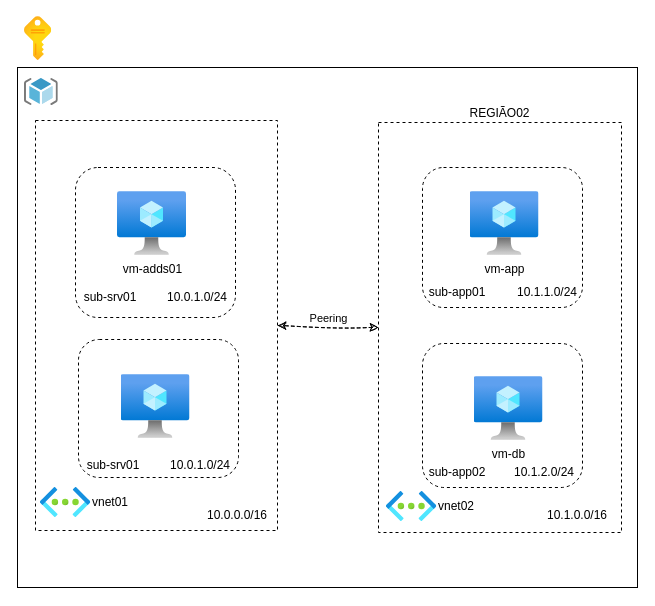
This 655x606 diagram has some shape labels left out. Each missing label, with the box of its shape:
REGIÂO01: (34, 120, 278, 530)
rg-local: (24, 78, 58, 105)
Subscription: (24, 16, 51, 60)
